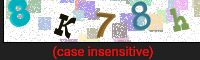7: (89, 6, 119, 41)
8: (125, 1, 160, 35), (4, 1, 37, 32)
K: (54, 11, 79, 39)
h: (169, 1, 192, 37)
